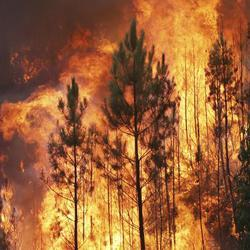fire: (42, 188, 198, 248), (140, 0, 218, 65), (174, 69, 208, 157), (1, 88, 60, 137)
